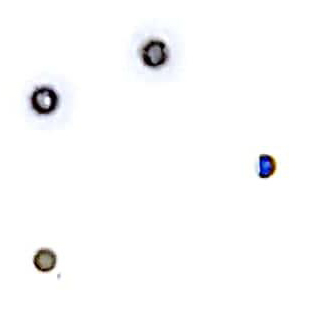cancer: (124, 22, 194, 91), (12, 70, 82, 130)
normal: (23, 232, 76, 289), (244, 142, 286, 189)
